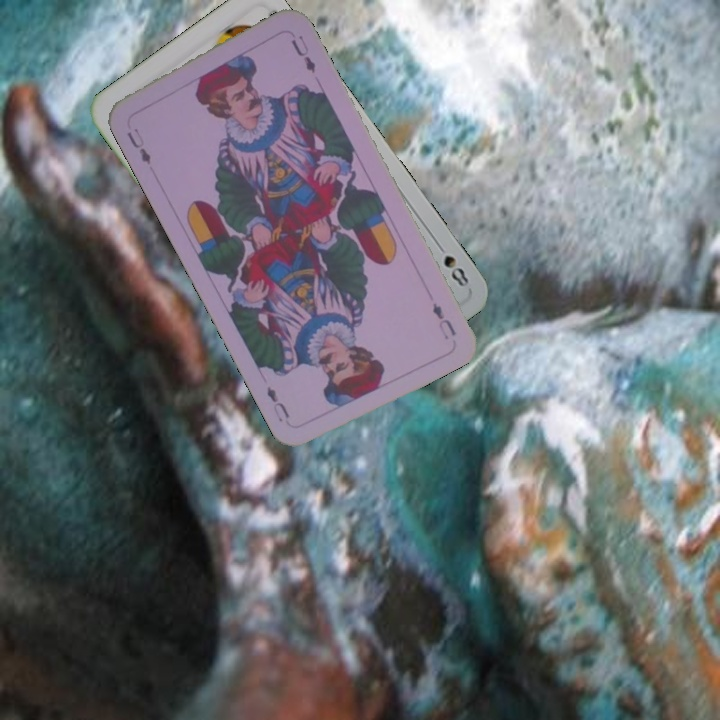EU: (428, 298, 459, 343), (123, 124, 154, 167)
S8: (431, 237, 472, 290)
